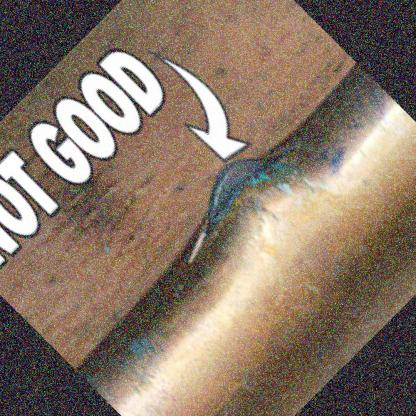burst: (199, 151, 297, 234)
